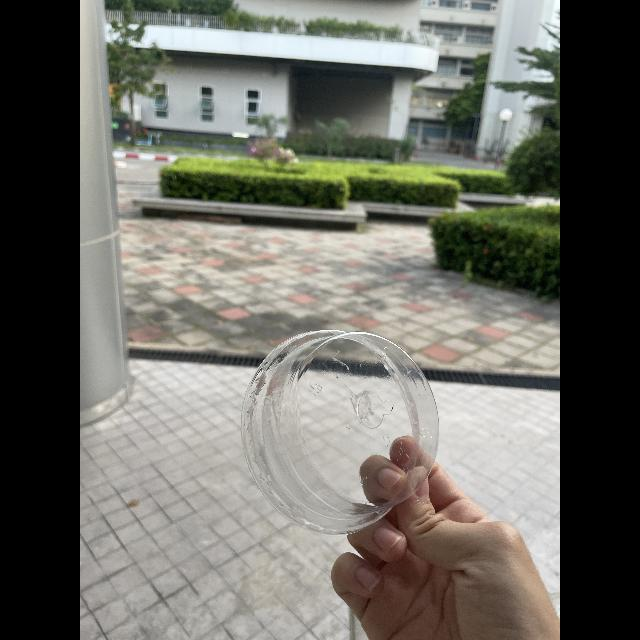plastic_cup_lid: (236, 318, 458, 540)
